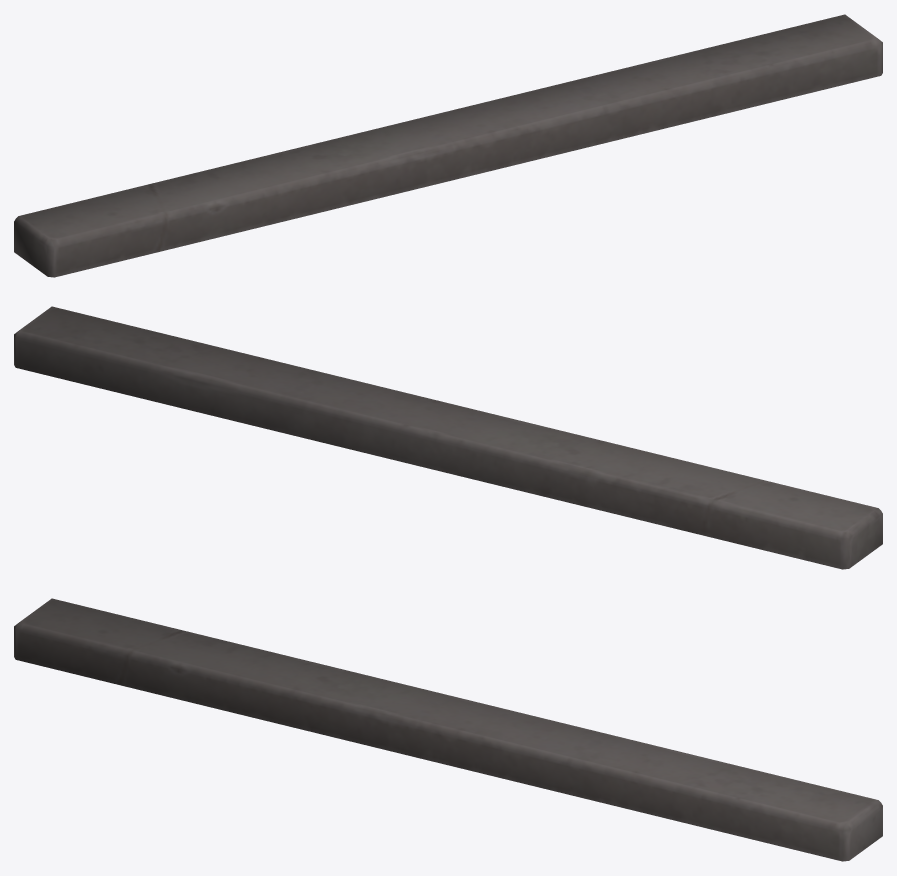
The model's file is SM_Border_02.glb.
3 views of the same model, one above another, from view 1: azimuth 30°, elevation 25°; view 2: azimuth 150°, elevation 25°; view 3: azimuth 330°, elevation 25° (orthographic).
Visible parts, largest first — view 1: SM_Border_02; view 2: SM_Border_02; view 3: SM_Border_02.
Part boxes in pixels (<box>): SM_Border_02: <box>14,14,882,277</box>; SM_Border_02: <box>14,306,882,569</box>; SM_Border_02: <box>14,598,882,861</box>.
Bounding box in the file's own units: 1.25 × 0.05 × 0.1.
1 material, 1 textured.
